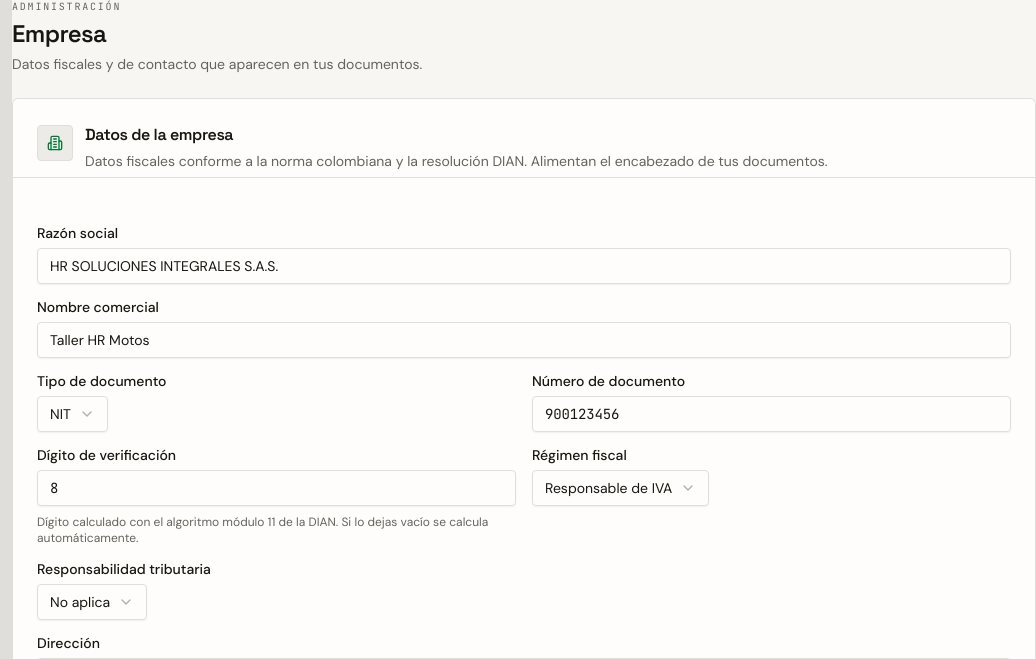
Scenario: CompanyPage › disables the save button when a required field is cleared
Clear the field with test id "company.legal_name_input" at coordinates (524, 266), box [37,248,1011,284]
(page scrolled)
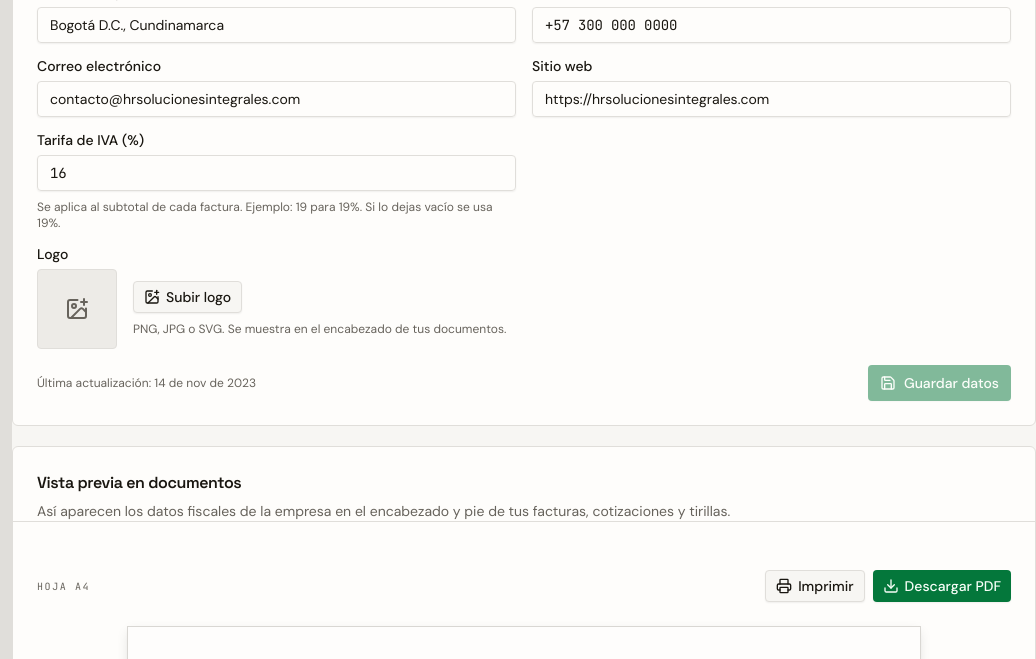
Expected: the button with test id "company.save_button" is disabled, [868,365,1011,401]
